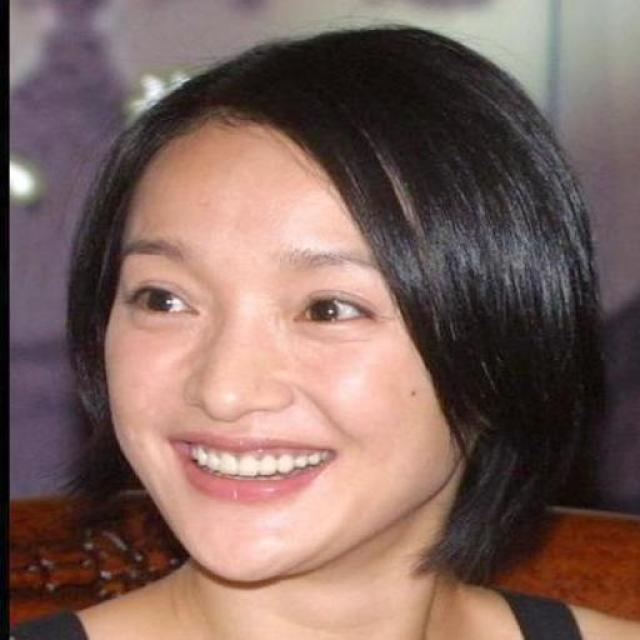bareface: (94, 187, 468, 547)
